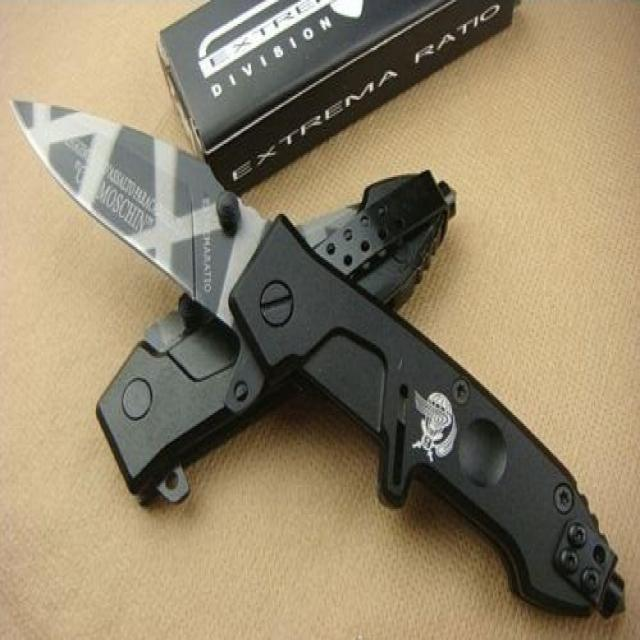knife: (8, 85, 629, 632)
